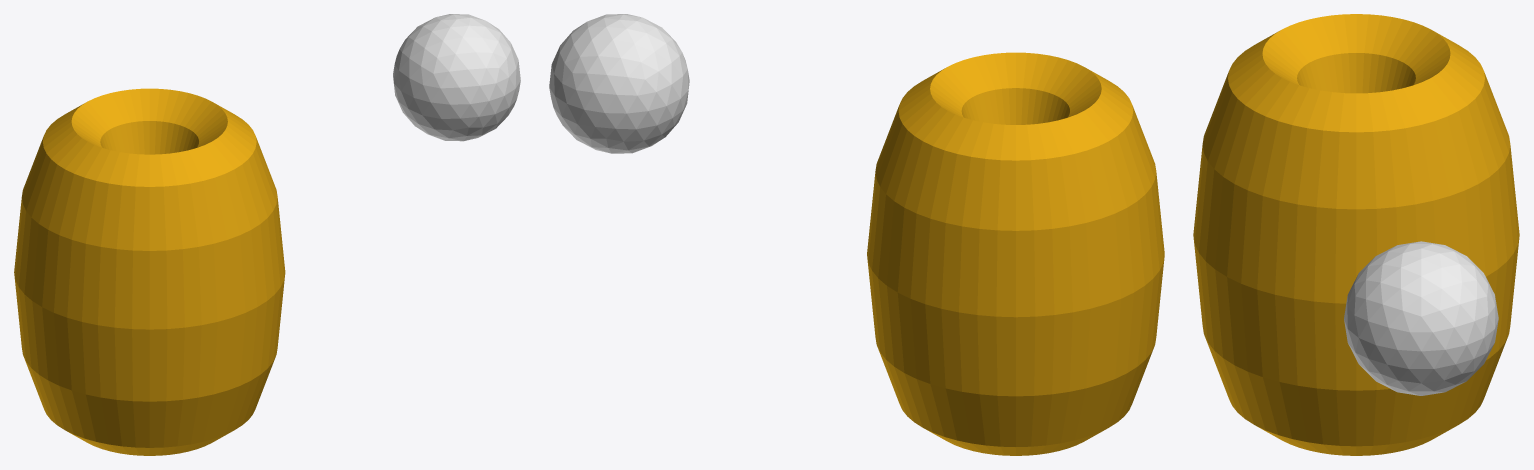
Rendered from bedazzled.glb.
3 renders of one model, left to right at view 1: azimuth 30°, elevation 25°; view 2: azimuth 150°, elevation 25°; view 3: azimuth 270°, elevation 25°, orthographic. The views are drawn at different scales.
Visible parts, largest first — view 1: Torus.002, Icosphere; view 2: Torus.002, Icosphere; view 3: Torus.002, Icosphere.
Boxes of the visible parts, x1,y1,x2,y2 form: Torus.002: (14,88,285,455); Icosphere: (393,14,520,141); Torus.002: (867,52,1164,455); Icosphere: (549,14,689,153); Torus.002: (1193,14,1519,455); Icosphere: (1344,241,1498,395).
Bounding box in the file's own units: 2.55 × 1.45 × 1.18.
